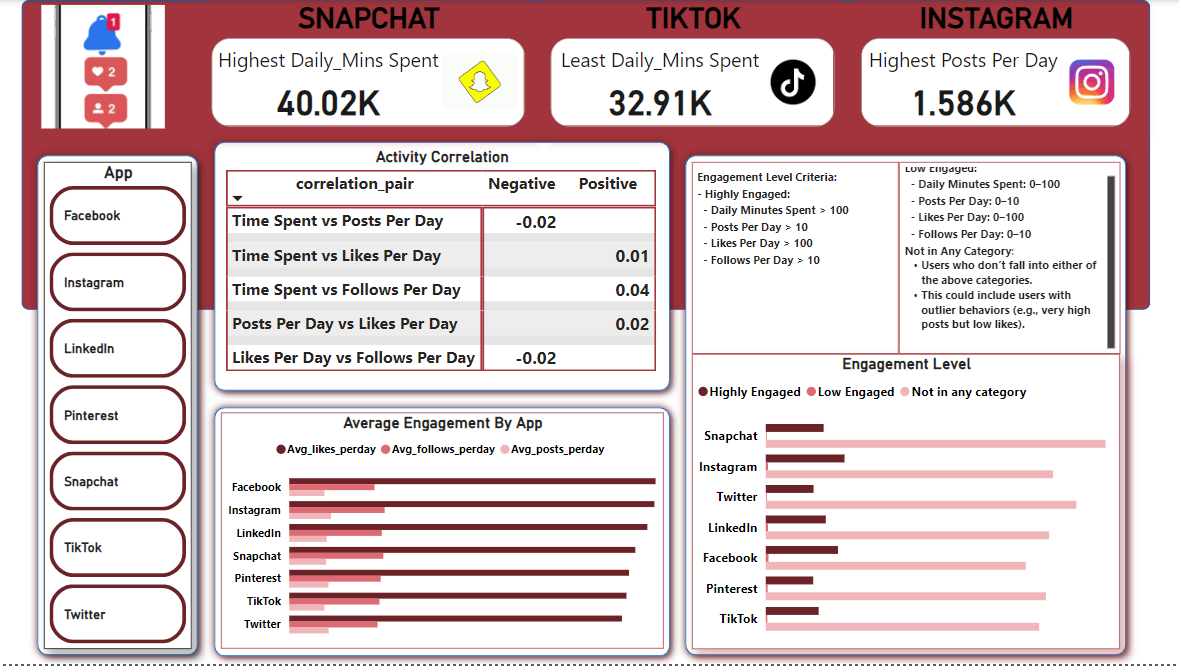

The page's visual inventory and layout, read from the dashboard file:
{"tool":"powerbi","page":{"name":"Page 1","canvas":[1280,720],"ordinal":0},"visuals":[{"type":"shape","box":[24,0,1224,336],"z":0},{"type":"shape","box":[32,160,192,560],"z":1000},{"type":"shape","box":[224,144,512,288],"z":2000},{"type":"shape","box":[224,432,512,288],"z":3000},{"type":"pivotTable","title":"Activity Correlation","fields":{"Values":["Sum(Query1.correlation_value)"],"Columns":["Query1.correlation_direction"],"Rows":["Query1.correlation_pair"]},"box":[240,160,480,256],"z":4000},{"type":"image","box":[32,0,160,144],"z":5000},{"type":"clusteredBarChart","title":"Average Engagement By App","fields":{"Category":["Query12.App"],"Y":["Sum(Query12.avg_likes_perday)","Sum(Query12.avg_follows_perday)","Sum(Query12.avg_posts_perday)"]},"box":[240,448,480,256],"z":6000},{"type":"shape","box":[736,160,496,560],"z":7000},{"type":"clusteredBarChart","title":"Engagement Level","fields":{"Category":["Query2.App"],"Y":["Sum(Query2.Daily_Minutes_Spent)"],"Series":["Query2.engagement_level"]},"box":[752,320,464,384],"z":8000},{"type":"cardVisual","title":"SNAPCHAT","fields":{"Data":["Sum(Query7.total_dailyminutes)"]},"box":[224,0,352,144],"z":9000},{"type":"cardVisual","title":"INSTAGRAM","fields":{"Data":["Sum(Query10.total_posts_per_day)"]},"box":[928,0,304,144],"z":10000},{"type":"cardVisual","title":"TIKTOK","fields":{"Data":["Sum(Query8.total_dailyminutes)"]},"box":[592,0,320,144],"z":11000},{"type":"advancedSlicerVisual","fields":{"Values":["Query2.App"]},"box":[48,176,160,528],"z":12000},{"type":"textbox","box":[752,176,208,144],"z":13000},{"type":"textbox","box":[960,176,256,144],"z":14000}]}

Visuals, with their boxes in screenshot pixels (x1, y1, x2, y2), scaled from the page's 1280x720 canvas onto the 1179x667 screenshot:
shape: 22 0 1150 311
shape: 29 148 206 666
shape: 206 133 678 400
shape: 206 400 678 666
"Activity Correlation" pivotTable: 221 148 663 385
image: 29 0 177 133
"Average Engagement By App" clusteredBarChart: 221 415 663 652
shape: 678 148 1135 666
"Engagement Level" clusteredBarChart: 693 296 1120 652
"SNAPCHAT" cardVisual: 206 0 531 133
"INSTAGRAM" cardVisual: 855 0 1135 133
"TIKTOK" cardVisual: 545 0 840 133
advancedSlicerVisual - Query2.App: 44 163 192 652
textbox: 693 163 884 296
textbox: 884 163 1120 296
